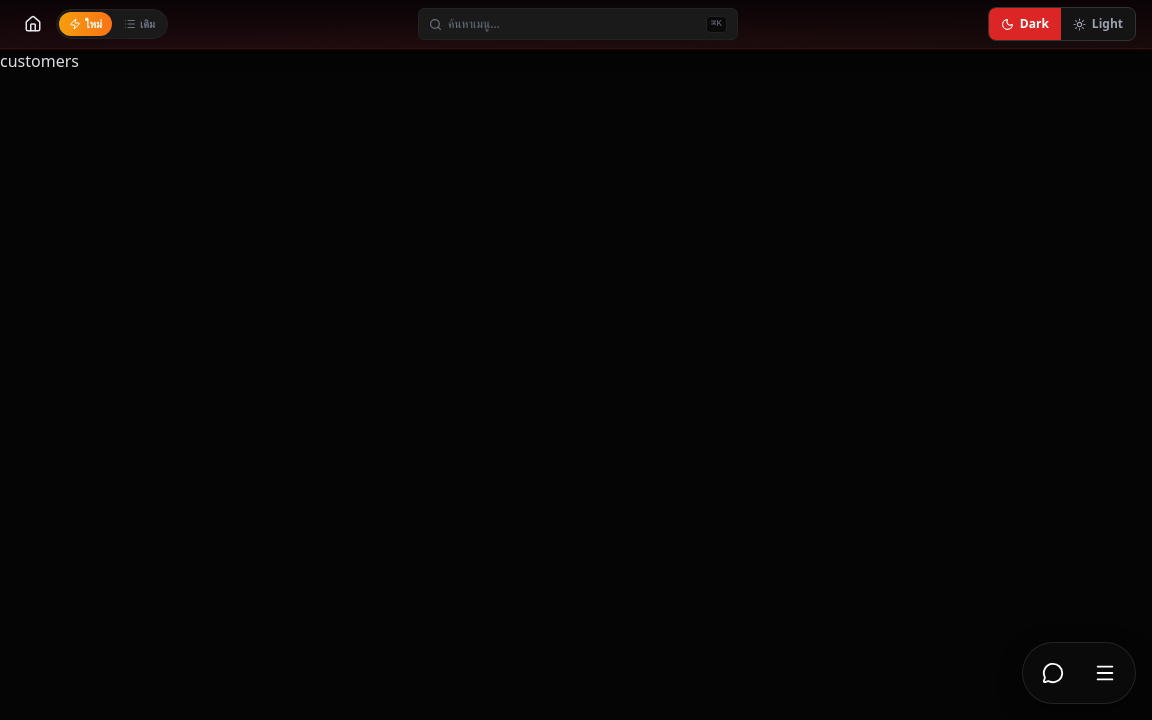
Test: Backend Menu D — Rule I full-flow simulate › FS2 (V21-T6 fixup) tap menu → bloom opens → tap multi-item orb → picker opens → tap mini-orb 0 → activeTab updates
Click the button with test id "duo-pill-menu": click(1105, 673) [1081,649,1129,697]
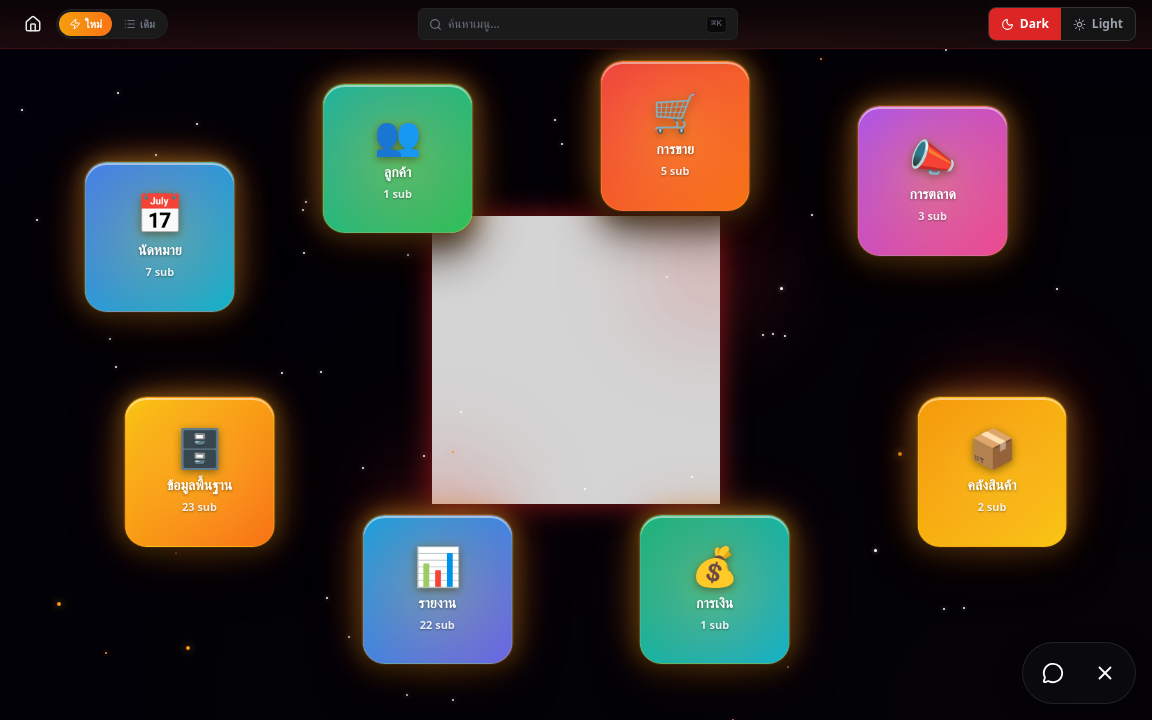
Now the number of menu items is 8
Click the menu item "📅 นัดหมาย 7 sub": click(160, 237) [85,162,235,312]
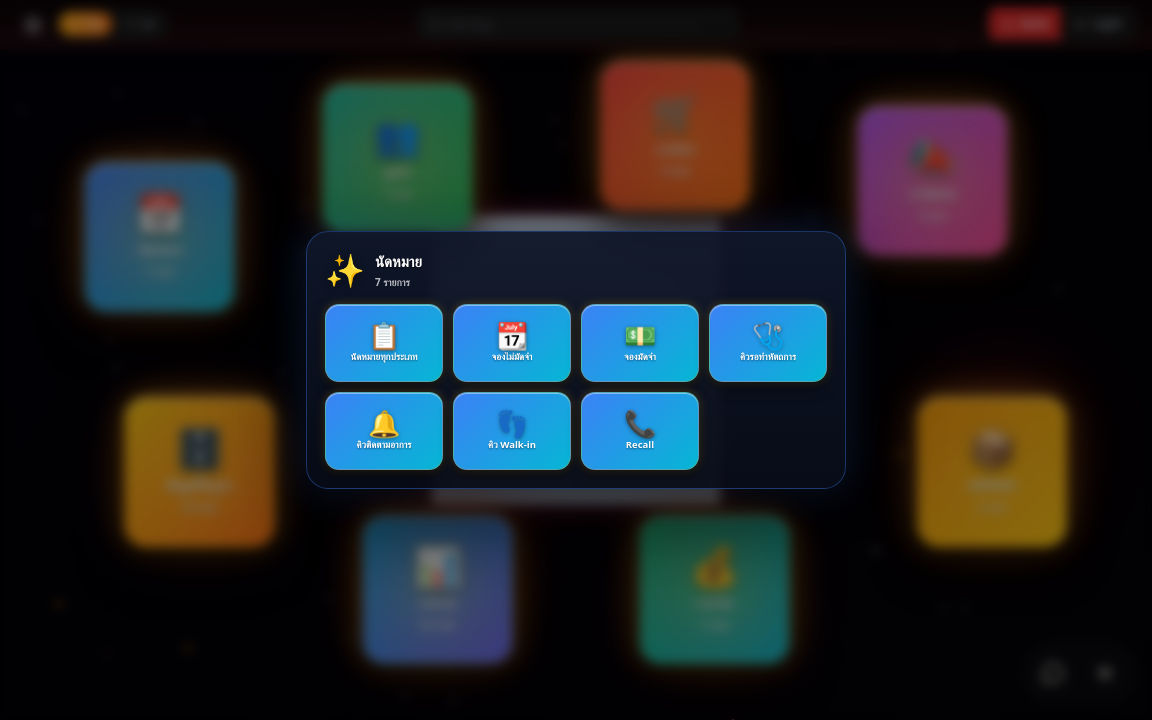
Now the dialog with test id "subtab-overlay" is shown
// Click the first mini-orb in the picker
Click the menu item "📋 นัดหมายทุกประเภท": click(384, 343) [325,304,443,382]
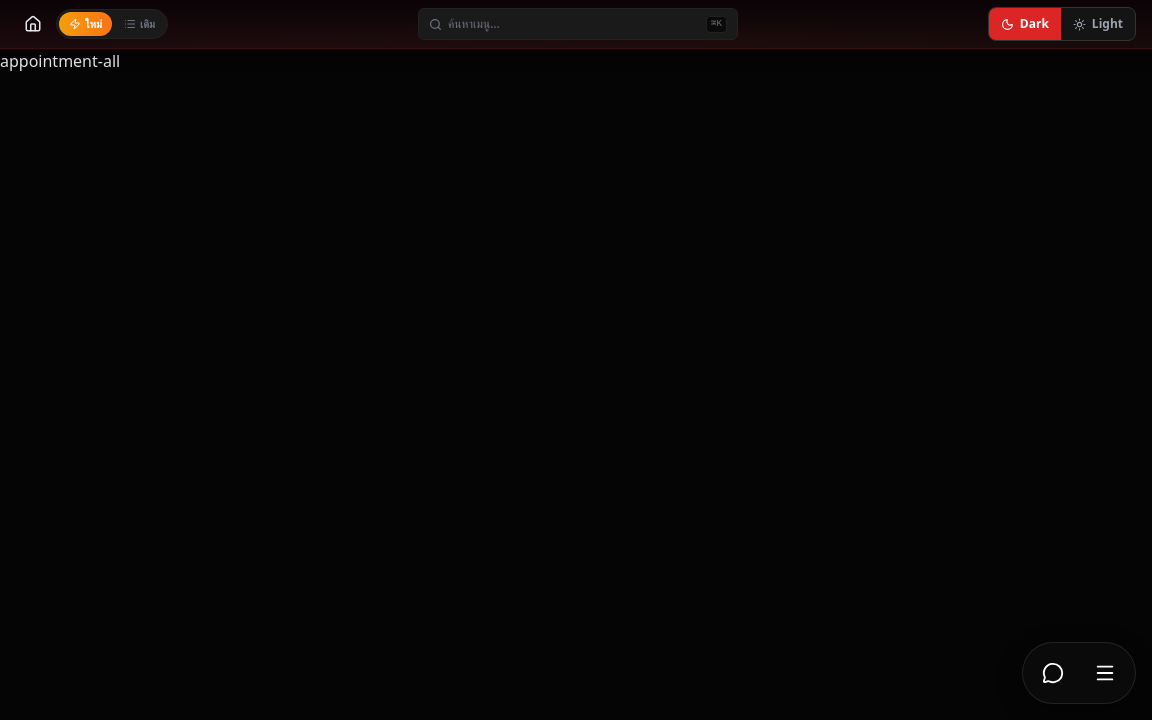
Now the text with test id "active-tab" reads "appointment-all", box [0,50,120,72]
